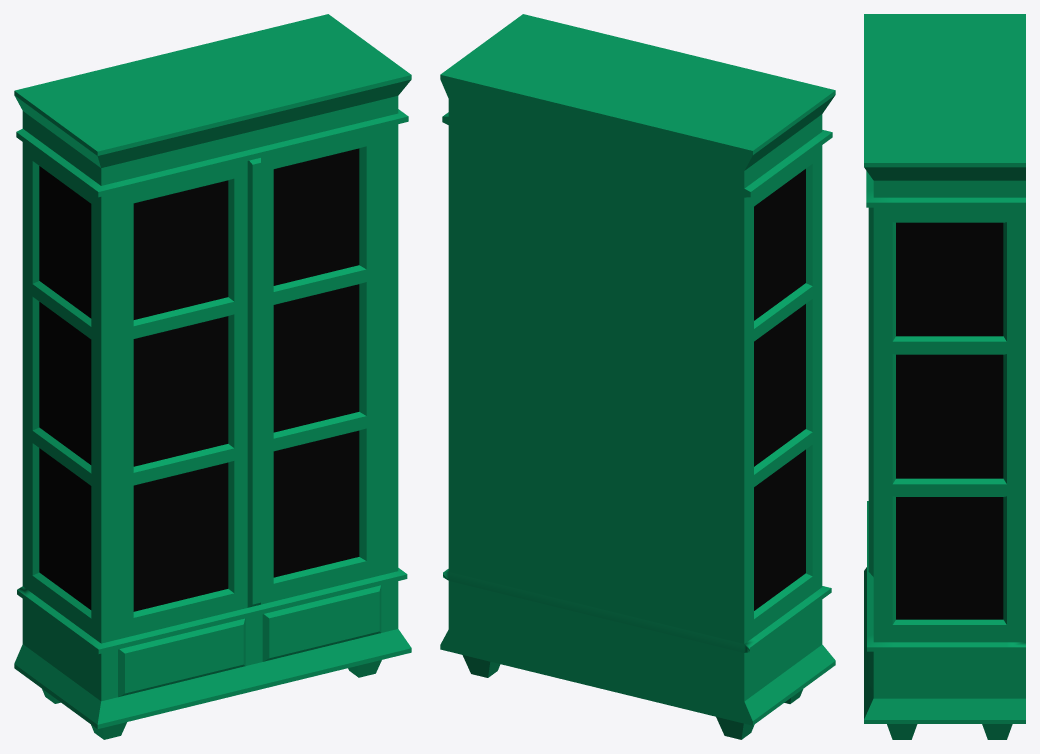
Rendered from G_Cupboard_Green.fbx.
3 renders of one model, left to right at view 1: azimuth 30°, elevation 25°; view 2: azimuth 150°, elevation 25°; view 3: azimuth 270°, elevation 25°, orthographic. The views are drawn at different scales.
Visible parts, largest first — view 1: G_Cupboard_Green; view 2: G_Cupboard_Green; view 3: G_Cupboard_Green.
Boxes of the visible parts, x1,y1,x2,y2 form: G_Cupboard_Green: [14, 14, 411, 739]; G_Cupboard_Green: [440, 14, 835, 739]; G_Cupboard_Green: [864, 14, 1025, 739].
Bounding box in the file's own units: 92.5 × 170 × 42.5.
1 material, 1 textured.
